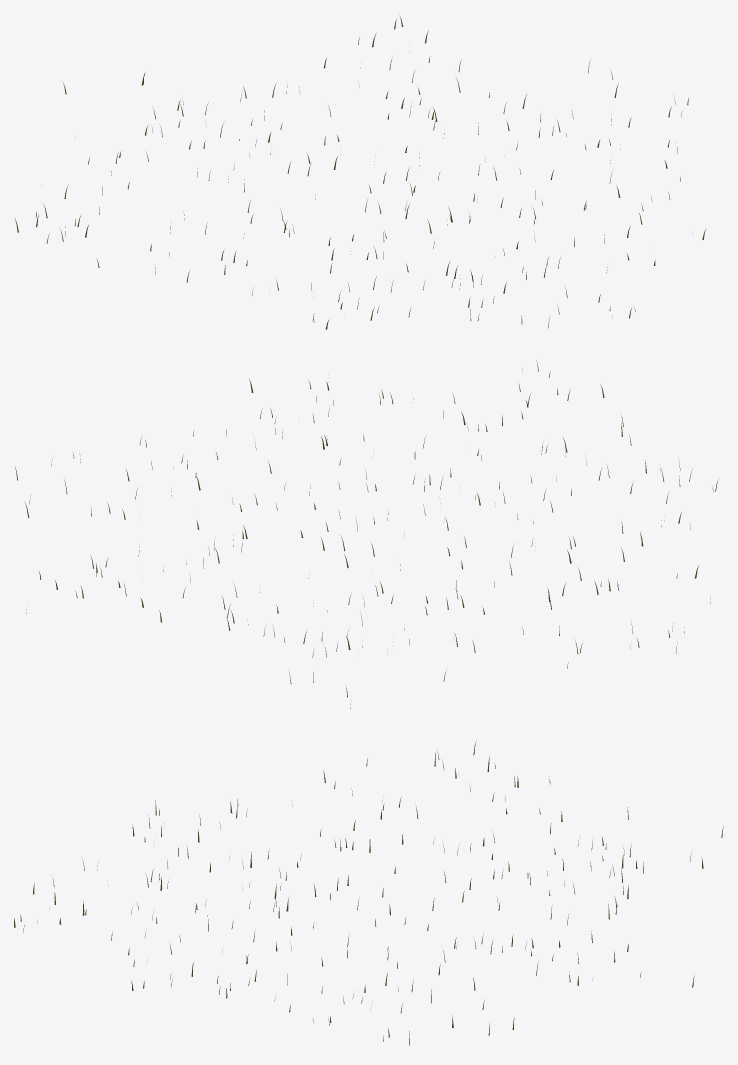
The picture shows the model from 3 angles, top to bottom: view 1: azimuth 30°, elevation 25°; view 2: azimuth 150°, elevation 25°; view 3: azimuth 270°, elevation 25°; orthographic projection. The views are drawn at different scales.
Parts seen in each view (by area): view 1: GrassPatch; view 2: GrassPatch; view 3: GrassPatch.
Part boxes in pixels (x1,y1,x2,y2): GrassPatch: (14, 17, 705, 329); GrassPatch: (15, 360, 718, 708); GrassPatch: (14, 742, 723, 1045).
Bounding box in the file's own units: 19.04 × 0.4916 × 19.23.
